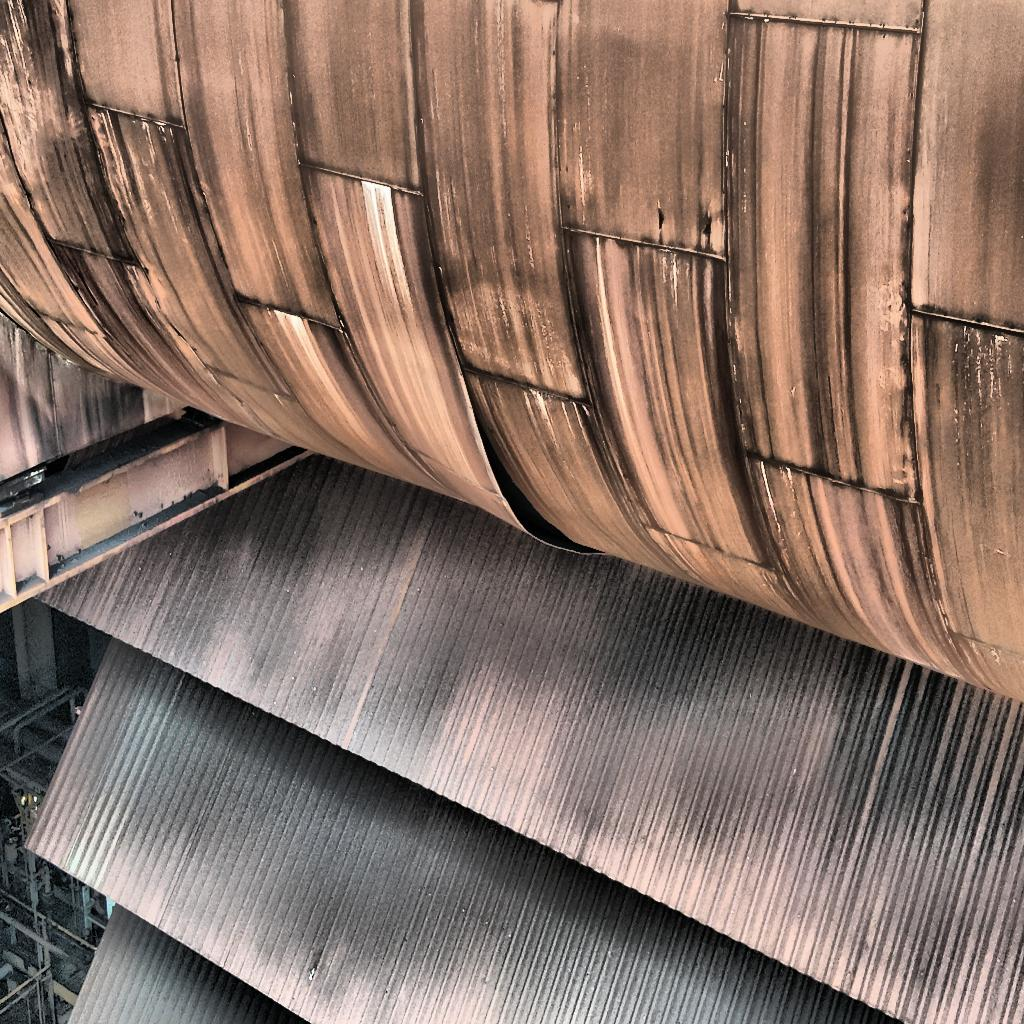Failures: (379, 207, 612, 575)
